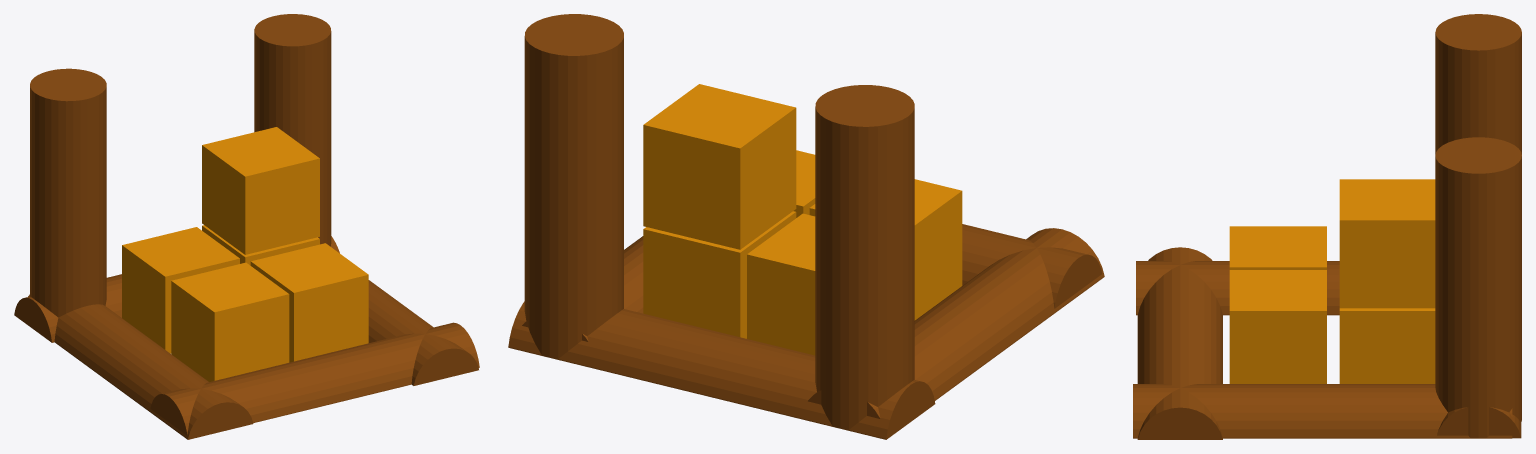
The model's file is Storage.fbx.
3 renders of one model, left to right at view 1: azimuth 30°, elevation 25°; view 2: azimuth 150°, elevation 25°; view 3: azimuth 270°, elevation 25°, orthographic. The views are drawn at different scales.
Visible parts, largest first — view 1: Cylinder.006, Cube.004, Cylinder.002, Cube.003, Cylinder.005, Cylinder.003, Cube.002, Cube, Cylinder.001, Cylinder.004, Cube.001; view 2: Cylinder.005, Cylinder.006, Cube.004, Cylinder.004, Cylinder.003, Cube.001, Cube, Cube.003, Cylinder.002, Cylinder.001, Cube.002; view 3: Cylinder.005, Cylinder.001, Cube.004, Cylinder.002, Cube.002, Cylinder.006, Cube.001, Cube.003, Cylinder.003, Cylinder.004.
Boxes of the visible parts, <box> form: Cylinder.006: <box>30,68,106,317</box>; Cube.004: <box>202,127,319,254</box>; Cylinder.002: <box>150,322,479,435</box>; Cube.003: <box>171,262,289,381</box>; Cylinder.005: <box>254,14,331,246</box>; Cylinder.003: <box>28,294,253,439</box>; Cube.002: <box>250,243,368,362</box>; Cube: <box>122,227,239,353</box>; Cylinder.001: <box>368,280,478,385</box>; Cylinder.004: <box>14,236,339,342</box>; Cube.001: <box>202,225,319,265</box>; Cylinder.005: <box>524,14,623,359</box>; Cylinder.006: <box>815,85,914,430</box>; Cube.004: <box>643,84,796,249</box>; Cylinder.004: <box>508,301,935,439</box>; Cylinder.003: <box>808,228,1104,418</box>; Cube.001: <box>643,211,796,338</box>; Cube: <box>747,213,815,355</box>; Cube.003: <box>809,179,962,320</box>; Cylinder.002: <box>962,224,1101,308</box>; Cylinder.001: <box>522,236,643,341</box>; Cube.002: <box>793,150,815,217</box>; Cylinder.005: <box>1435,137,1521,438</box>; Cylinder.001: <box>1133,384,1512,438</box>; Cube.004: <box>1339,179,1435,308</box>; Cylinder.002: <box>1137,247,1222,439</box>; Cube.002: <box>1229,270,1326,383</box>; Cylinder.006: <box>1435,14,1521,154</box>; Cube.001: <box>1339,308,1435,383</box>; Cube.003: <box>1229,226,1326,269</box>; Cylinder.003: <box>1136,261,1339,315</box>; Cylinder.004: <box>1437,407,1521,438</box>.
Size of the model in its own units: 214 by 163 by 217.
